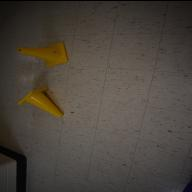cone: (16, 86, 64, 116), (16, 41, 68, 66)
